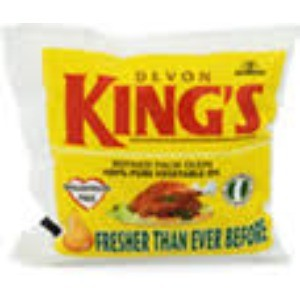vegetable oil_brain food: (50, 86, 277, 213)
